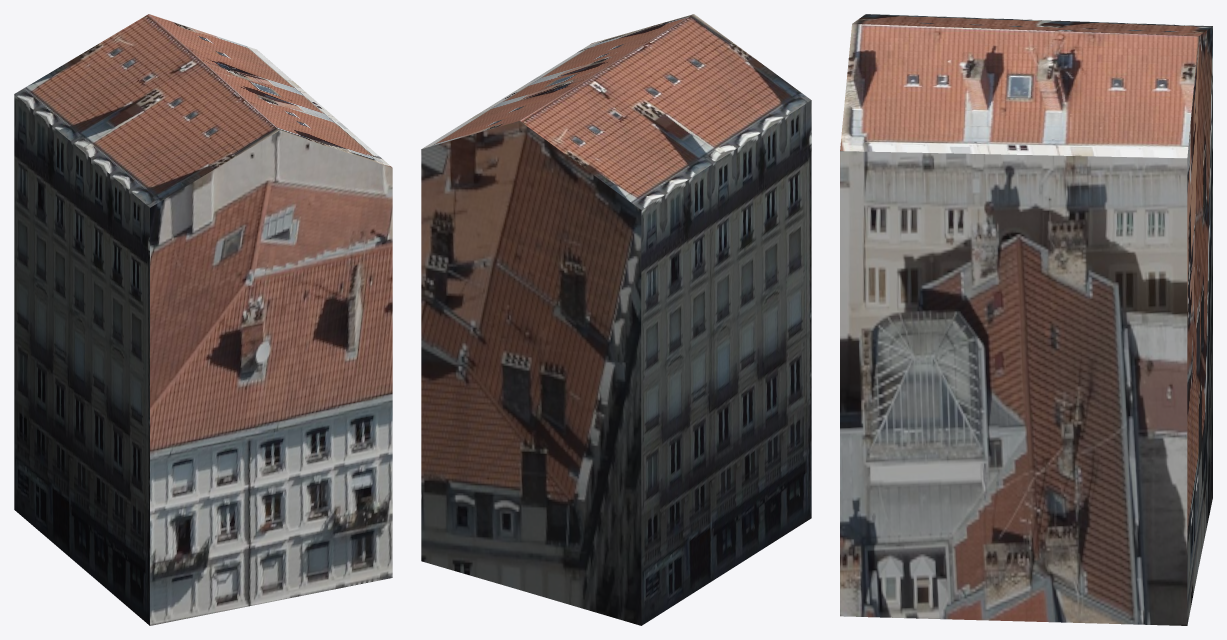
The picture shows the model from 3 angles, left to right: view 1: azimuth 30°, elevation 25°; view 2: azimuth 150°, elevation 25°; view 3: azimuth 270°, elevation 25°; orthographic projection. The views are drawn at different scales.
Parts seen in each view (by area): view 1: Z_UP; view 2: Z_UP; view 3: Z_UP.
Part boxes in pixels (box(x1,y1,x2,y2)): Z_UP: box(14, 14, 392, 625); Z_UP: box(421, 14, 811, 625); Z_UP: box(840, 14, 1212, 625).
Size of the model in its own units: 15.52 by 28.01 by 17.77.
2 materials, 1 textured.
